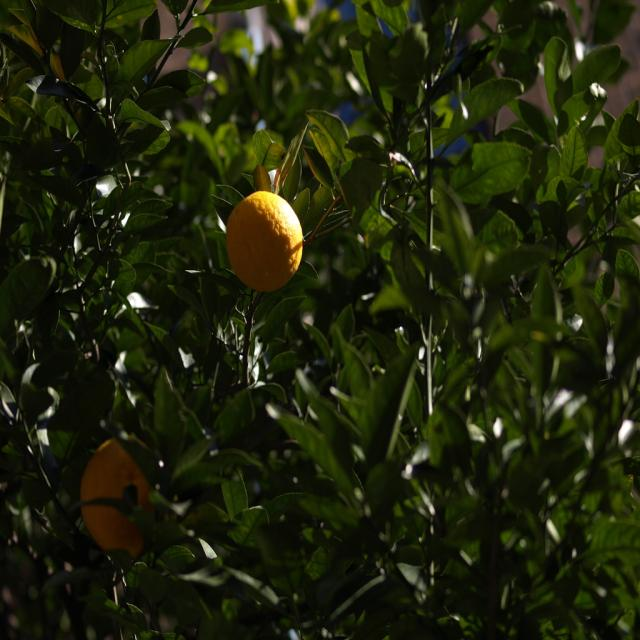Lemon: (80, 427, 152, 556), (220, 192, 307, 287)
